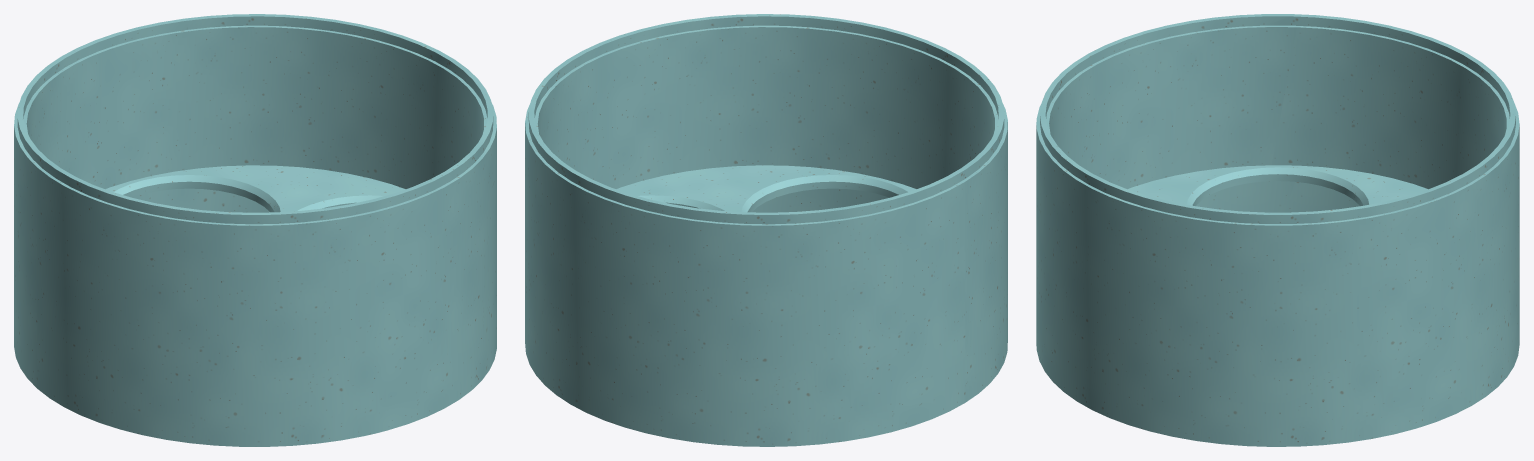
File: egg-holder-full.glb
The picture shows the model from 3 angles, left to right: view 1: azimuth 30°, elevation 25°; view 2: azimuth 150°, elevation 25°; view 3: azimuth 270°, elevation 25°; orthographic projection.
Size of the model in its own units: 0.1206 by 0.0635 by 0.1207.
Materials: 1 (1 with a texture image).
